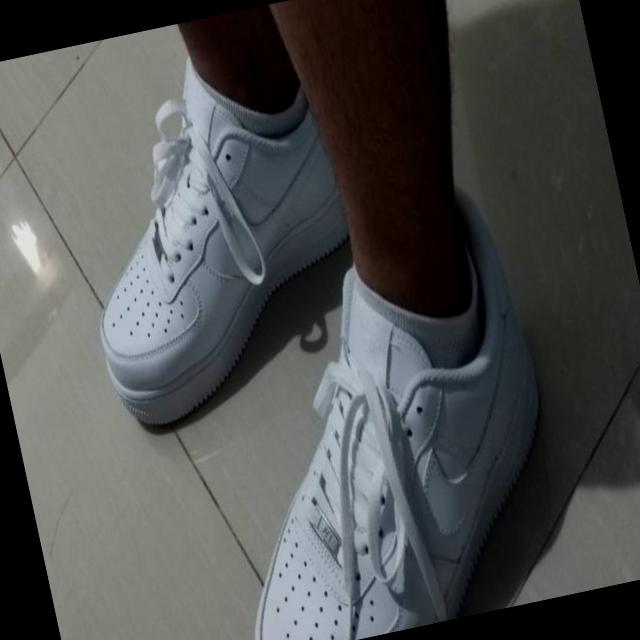nike_original_airforce: (165, 176, 584, 640), (39, 22, 397, 445)
